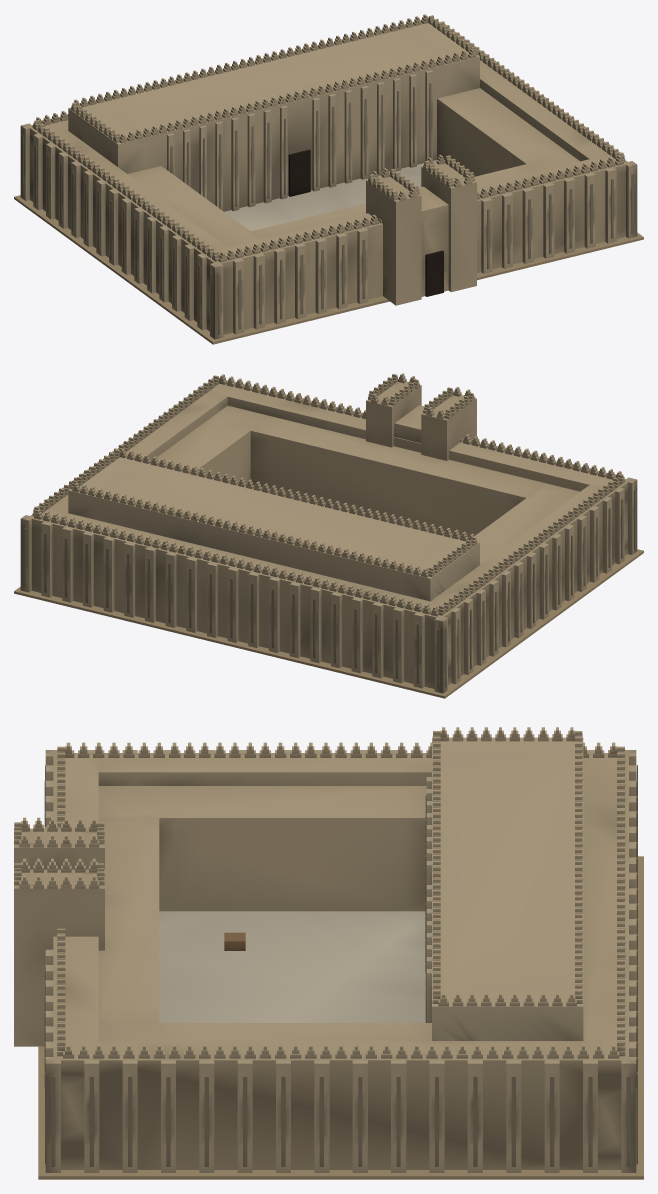
The model's file is nabu-sha-hare.glb.
3 views of the same model, one above another, from view 1: azimuth 30°, elevation 25°; view 2: azimuth 150°, elevation 25°; view 3: azimuth 270°, elevation 25° (orthographic). The views are drawn at different scales.
Visible parts, largest first — view 1: p1_court and cella, p0_walls, p2_gate towers; view 2: p0_walls, p1_court and cella, p2_gate towers; view 3: p1_court and cella, p0_walls, p2_gate towers.
Boxes of the visible parts, bbox=[...] form: p1_court and cella: bbox=[68, 23, 579, 247]; p0_walls: bbox=[14, 24, 643, 344]; p2_gate towers: bbox=[32, 14, 625, 305]; p0_walls: bbox=[14, 377, 643, 698]; p1_court and cella: bbox=[68, 405, 579, 601]; p2_gate towers: bbox=[32, 373, 625, 616]; p1_court and cella: bbox=[98, 737, 583, 1040]; p0_walls: bbox=[38, 750, 643, 1179]; p2_gate towers: bbox=[14, 727, 625, 1058].
Bounding box in the file's own units: 50 × 12.55 × 41.6.
